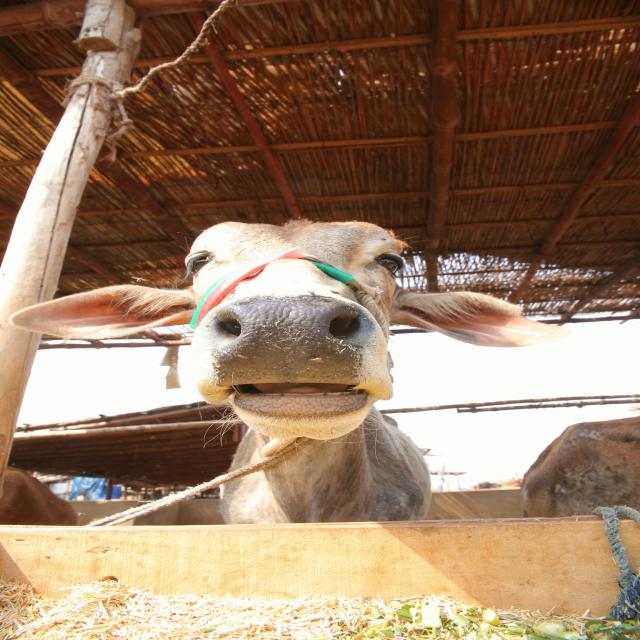muzzles: (204, 290, 381, 390)
